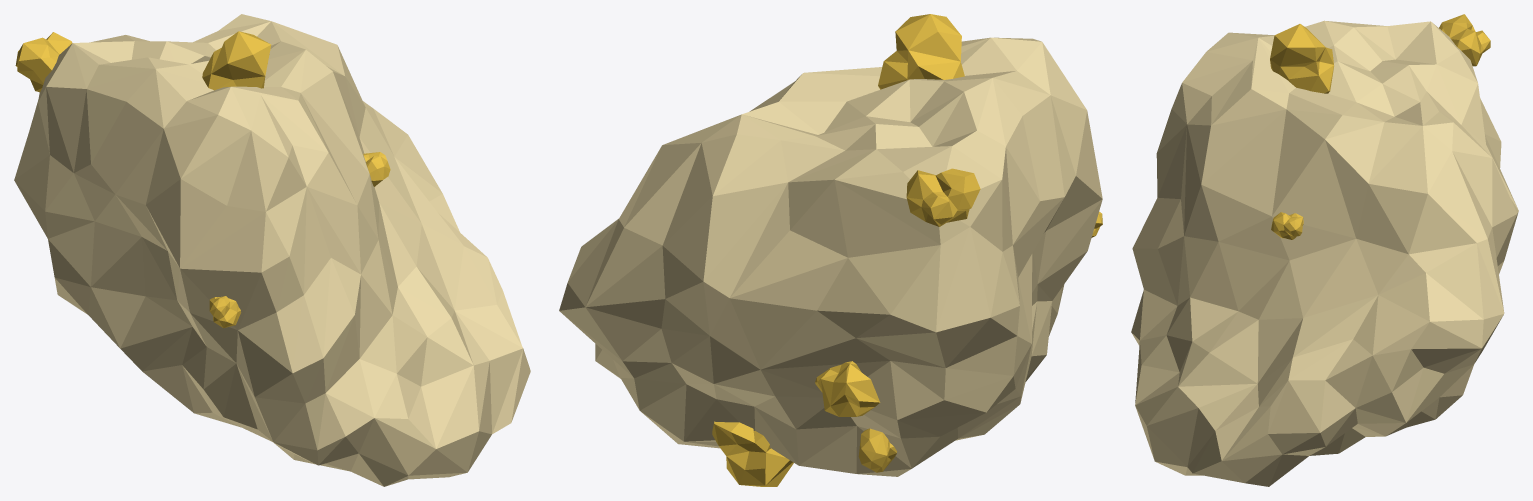
File: MetalOre (3).fbx
3 views of the same model, side by side, from view 1: azimuth 30°, elevation 25°; view 2: azimuth 150°, elevation 25°; view 3: azimuth 270°, elevation 25° (orthographic). The views are drawn at different scales.
Parts seen in each view (by area): view 1: Asteroid358; view 2: Asteroid358; view 3: Asteroid358.
Boxes of the visible parts, x1,y1,x2,y2 form: Asteroid358: (14, 14, 530, 486); Asteroid358: (559, 14, 1102, 486); Asteroid358: (1131, 14, 1518, 486).
Size of the model in its own units: 426 by 447 by 404.
